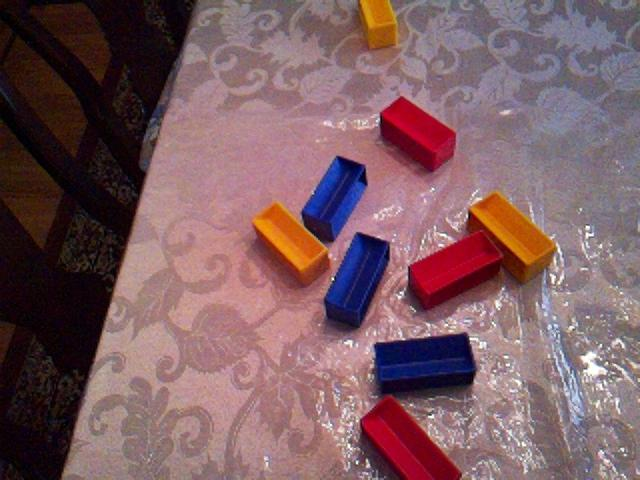blue: (323, 231, 392, 329), (372, 331, 478, 394), (300, 154, 369, 243)
red: (359, 394, 464, 480), (407, 229, 504, 311), (378, 94, 458, 173)
yellow: (467, 189, 557, 284), (251, 199, 331, 287), (357, 1, 399, 51)
